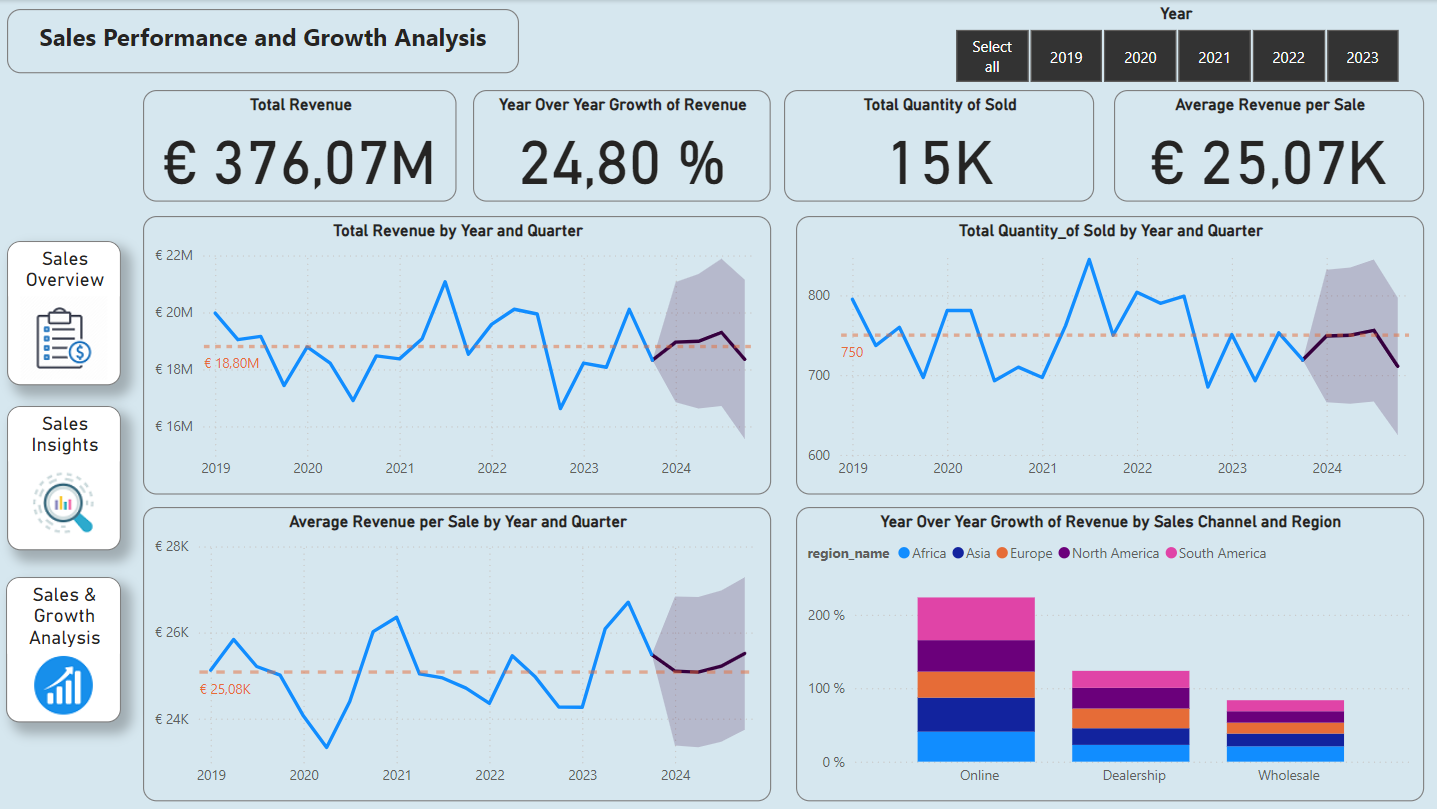

This screenshot's page, from the dashboard's own definition file:
{"tool":"powerbi","page":{"name":"Sales Performance and Growth Analysis","canvas":[1280,720],"ordinal":2},"visuals":[{"type":"lineChart","title":"Total Revenue by Year and Quarter","fields":{"Y":["Sum(sales_fact.revenue)"],"Category":["date_dim.date.Variation.Date Hierarchy.Year","date_dim.date.Variation.Date Hierarchy.Quarter","date_dim.date.Variation.Date Hierarchy.Month","date_dim.date.Variation.Date Hierarchy.Day"]},"box":[128.9,191.9,556.6,246.8],"z":0},{"type":"lineChart","title":"Total Quantity_of Sold by Year and Quarter","fields":{"Y":["Sum(sales_fact.quantity_sold)"],"Category":["date_dim.date.Variation.Date Hierarchy.Year","date_dim.date.Variation.Date Hierarchy.Quarter","date_dim.date.Variation.Date Hierarchy.Month","date_dim.date.Variation.Date Hierarchy.Day"]},"box":[707.4,191.9,556.6,246.8],"z":1000},{"type":"columnChart","title":"Year Over Year Growth of Revenue by Sales Channel and Region","fields":{"Category":["channel_dim.channel_name"],"Series":["region_dim.region_name"],"Y":["sales_fact.YoYGrowth"]},"box":[707.4,449.6,556.6,260.8],"z":2000},{"type":"lineChart","fields":{"Y":["sales_fact.Average Revenue per Sale"],"Category":["date_dim.date.Variation.Date Hierarchy.Year","date_dim.date.Variation.Date Hierarchy.Quarter","date_dim.date.Variation.Date Hierarchy.Month","date_dim.date.Variation.Date Hierarchy.Day"]},"box":[128.9,449.6,556.6,260.8],"z":3000},{"type":"card","title":"Total Revenue","fields":{"Values":["Sum(sales_fact.revenue)"]},"box":[128.8,79.5,278.4,98.6],"z":4000},{"type":"card","title":"Total Quantity of Sold","fields":{"Values":["Sum(sales_fact.quantity_sold)"]},"box":[696.7,79.5,275.2,98.6],"z":5000},{"type":"card","title":"Year Over Year Growth of Revenue","fields":{"Values":["sales_fact.YoYGrowth"]},"box":[421.5,79.5,264,98.6],"z":6000},{"type":"card","title":"Average Revenue per Sale","fields":{"Values":["sales_fact.Average Revenue per Sale"]},"box":[989.4,79.5,275.2,98.6],"z":7000},{"type":"actionButton","title":"Sales Overview","box":[8,213.8,100.9,127.9],"z":9000},{"type":"actionButton","title":"Sales Insights","box":[8,359.7,100.9,127.9],"z":10000},{"type":"actionButton","title":"Sales & Growth Analysis","box":[7,511.6,101.9,128.9],"z":11000},{"type":"textbox","box":[8,8,453.6,57],"z":12000},{"type":"slicer","title":"Year","fields":{"Values":["date_dim.date.Variation.Date Hierarchy.Year"]},"box":[823.9,3.2,442.2,76.3],"z":12001},{"type":"bookmarkNavigator","box":[0,0,600,50],"z":12002}]}

Visuals, with their boxes in screenshot pixels (x1, y1, x2, y2), scaled from the page's 1280x720 canvas onto the 1437x809 screenshot:
"Total Revenue by Year and Quarter" lineChart: {"x1": 145, "y1": 216, "x2": 770, "y2": 493}
"Total Quantity_of Sold by Year and Quarter" lineChart: {"x1": 794, "y1": 216, "x2": 1419, "y2": 493}
"Year Over Year Growth of Revenue by Sales Channel and Region" columnChart: {"x1": 794, "y1": 505, "x2": 1419, "y2": 798}
lineChart - sales_fact.Average Revenue per Sale x date_dim.date.Variation.Date Hierarchy.Year: {"x1": 145, "y1": 505, "x2": 770, "y2": 798}
"Total Revenue" card: {"x1": 145, "y1": 89, "x2": 457, "y2": 200}
"Total Quantity of Sold" card: {"x1": 782, "y1": 89, "x2": 1091, "y2": 200}
"Year Over Year Growth of Revenue" card: {"x1": 473, "y1": 89, "x2": 770, "y2": 200}
"Average Revenue per Sale" card: {"x1": 1111, "y1": 89, "x2": 1420, "y2": 200}
"Sales Overview" actionButton: {"x1": 9, "y1": 240, "x2": 122, "y2": 384}
"Sales Insights" actionButton: {"x1": 9, "y1": 404, "x2": 122, "y2": 548}
"Sales & Growth Analysis" actionButton: {"x1": 8, "y1": 575, "x2": 122, "y2": 720}
textbox: {"x1": 9, "y1": 9, "x2": 518, "y2": 73}
"Year" slicer: {"x1": 925, "y1": 4, "x2": 1421, "y2": 89}
bookmarkNavigator: {"x1": 0, "y1": 0, "x2": 674, "y2": 56}
